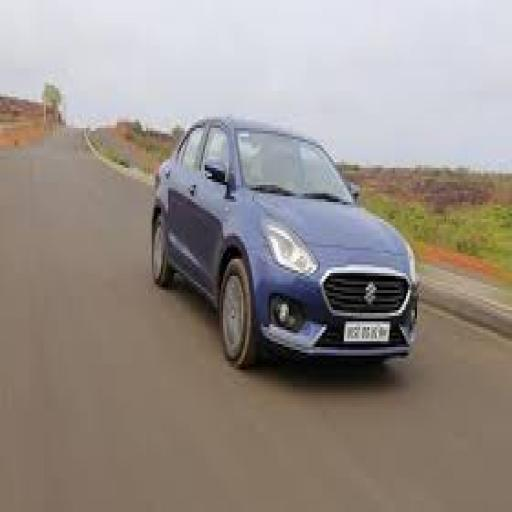License: (340, 315, 394, 345)
